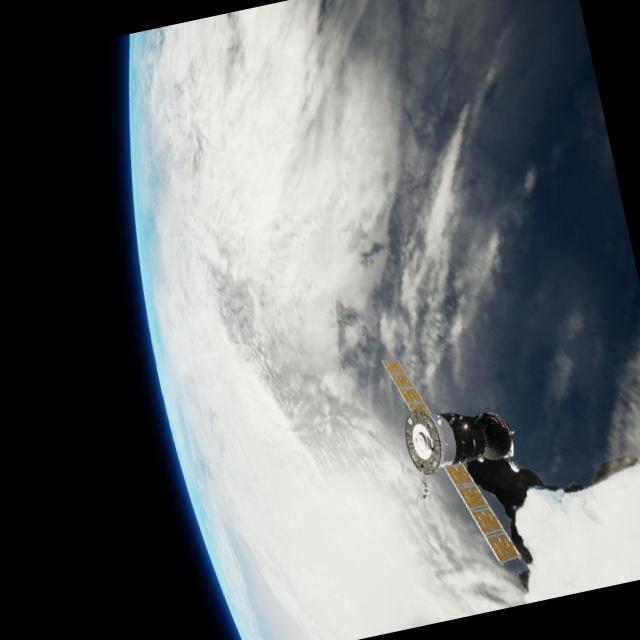Satellites revolving around earth: (85, 0, 640, 640), (378, 332, 542, 584)
